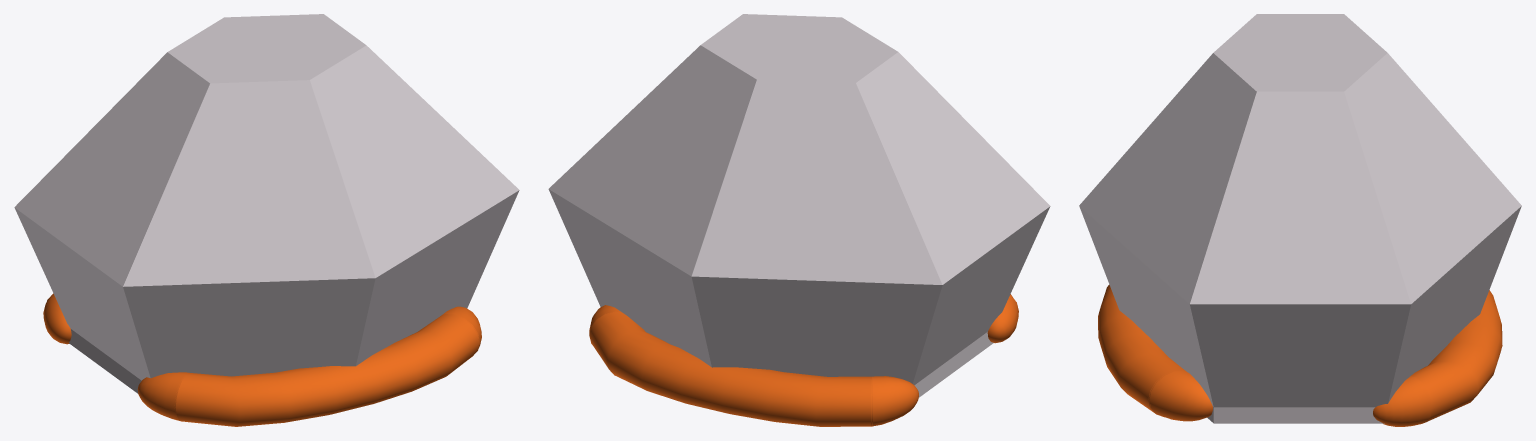
The model's file is EscapePodModel.glb.
The picture shows the model from 3 angles, left to right: view 1: azimuth 30°, elevation 25°; view 2: azimuth 150°, elevation 25°; view 3: azimuth 270°, elevation 25°; orthographic projection. The views are drawn at different scales.
Parts seen in each view (by area): view 1: EscapePod; view 2: EscapePod; view 3: EscapePod.
Boxes of the visible parts, x1=… form: EscapePod: x1=14, y1=14, x2=519, y2=426; EscapePod: x1=548, y1=14, x2=1050, y2=426; EscapePod: x1=1079, y1=14, x2=1521, y2=426.
Bounding box in the file's own units: 3.2 × 2.31 × 3.04.
